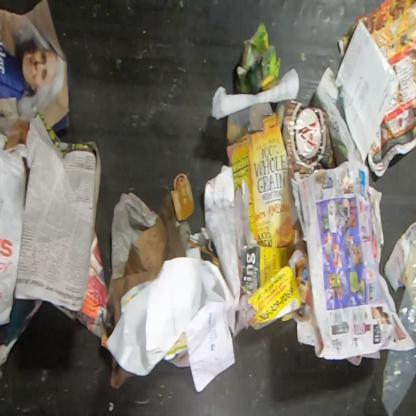cardboard: (226, 101, 300, 247), (274, 99, 337, 182), (172, 174, 195, 222)
soft_plastic: (380, 232, 415, 415)
